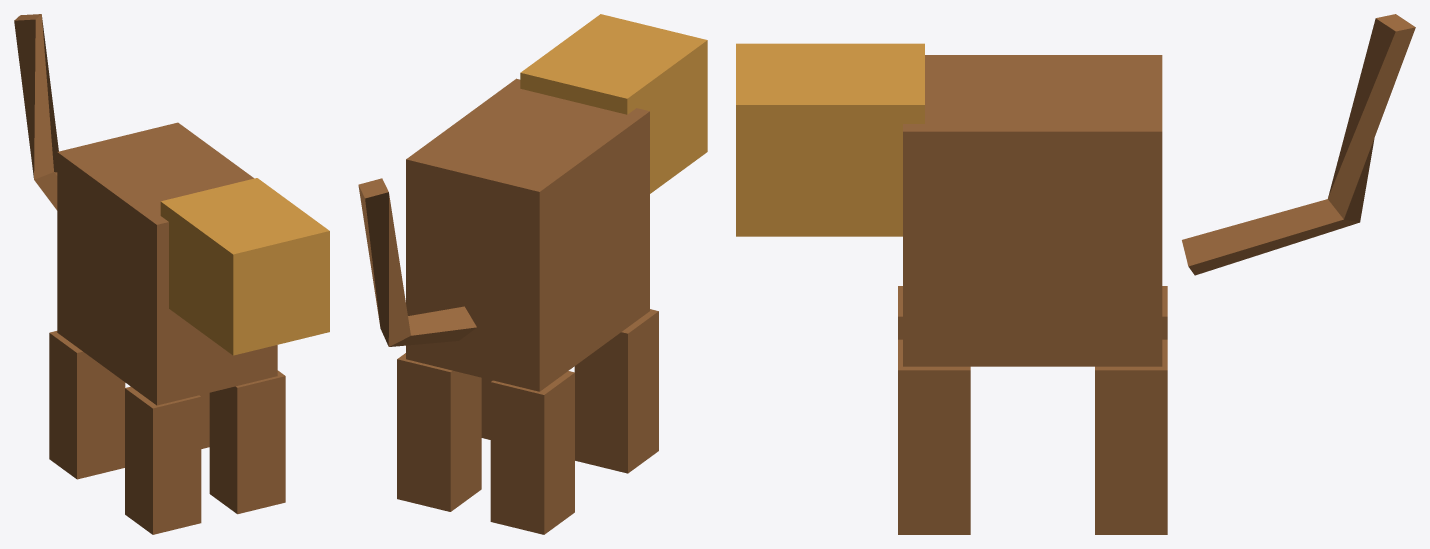
The model's file is monkey.glb.
3 renders of one model, left to right at view 1: azimuth 30°, elevation 25°; view 2: azimuth 150°, elevation 25°; view 3: azimuth 270°, elevation 25°, orthographic. The views are drawn at different scales.
Parts seen in each view (by area): view 1: monkey; view 2: monkey; view 3: monkey.
Boxes of the visible parts, x1,y1,x2,y2 form: monkey: [14, 14, 329, 534]; monkey: [358, 14, 707, 534]; monkey: [736, 14, 1415, 534].
Size of the model in its own units: 0.385 by 1.01 by 1.31.
